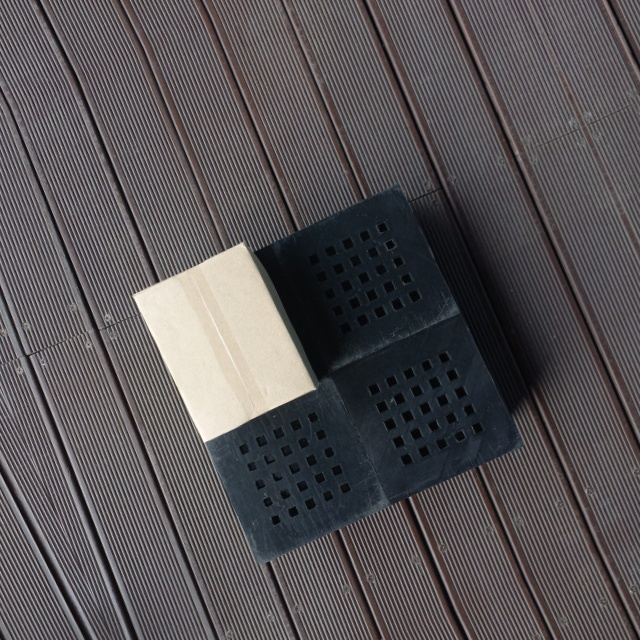box: (129, 239, 317, 446)
pallet: (139, 181, 537, 572)
